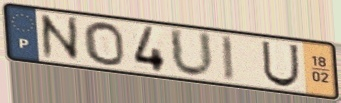4: (132, 25, 168, 74)
I: (218, 33, 236, 84)
N: (37, 12, 84, 62)
O: (81, 20, 127, 68)
U: (167, 25, 217, 80), (259, 39, 301, 89)
